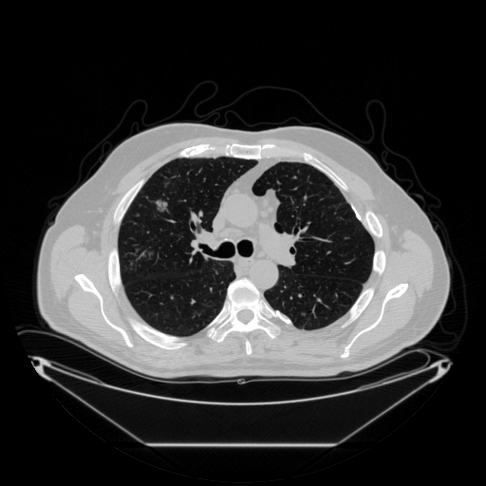nodule: (155, 200, 165, 210)
